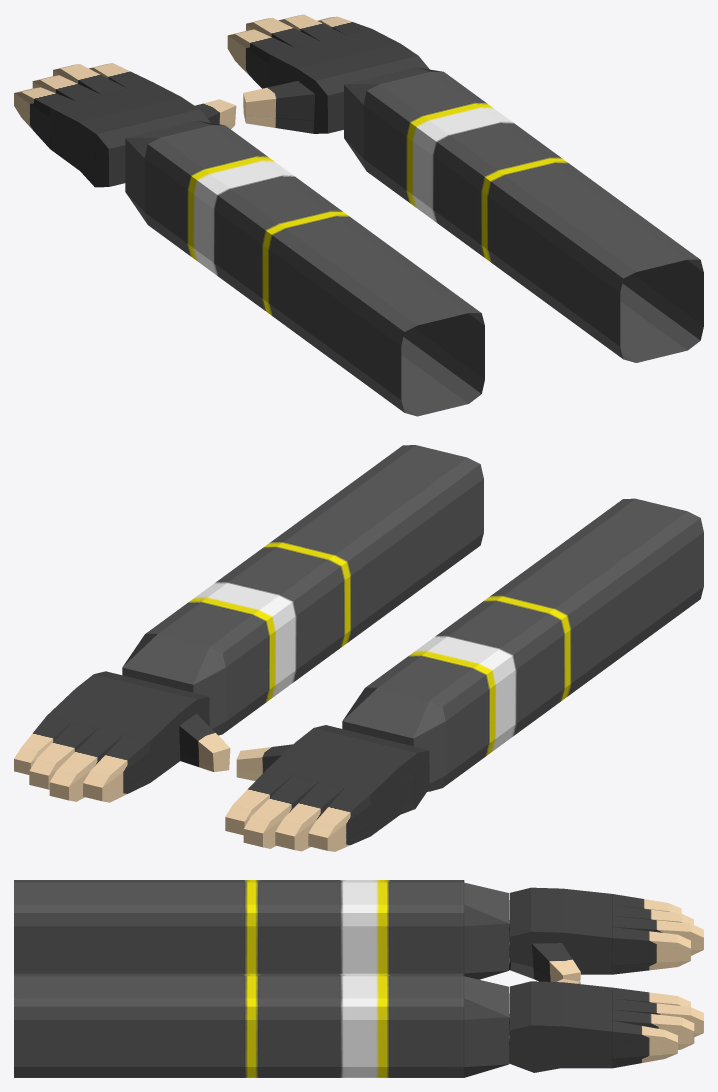
File: rigged_laggy_arms_1.1.glb
The picture shows the model from 3 angles, top to bottom: view 1: azimuth 30°, elevation 25°; view 2: azimuth 150°, elevation 25°; view 3: azimuth 270°, elevation 25°; orthographic projection. The views are drawn at different scales.
Visible parts, largest first — view 1: r arm_2, l arm_0; view 2: l arm_0, r arm_2; view 3: r arm_2, l arm_0.
Boxes of the visible parts, bbox=[...] form: r arm_2: bbox=[227, 14, 703, 362]; l arm_0: bbox=[14, 63, 484, 416]; l arm_0: bbox=[225, 498, 703, 851]; r arm_2: bbox=[14, 445, 483, 802]; r arm_2: bbox=[14, 973, 703, 1077]; l arm_0: bbox=[14, 880, 703, 981].
Size of the model in its own units: 0.3928 by 0.106 by 0.8313.
Materials: 1 (1 with a texture image).
